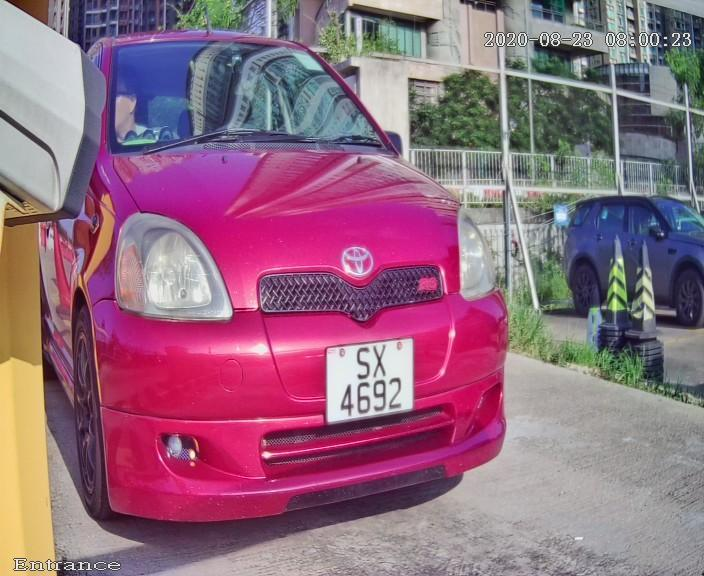Car: (10, 6, 563, 576)
License Plate: (315, 324, 419, 435)
